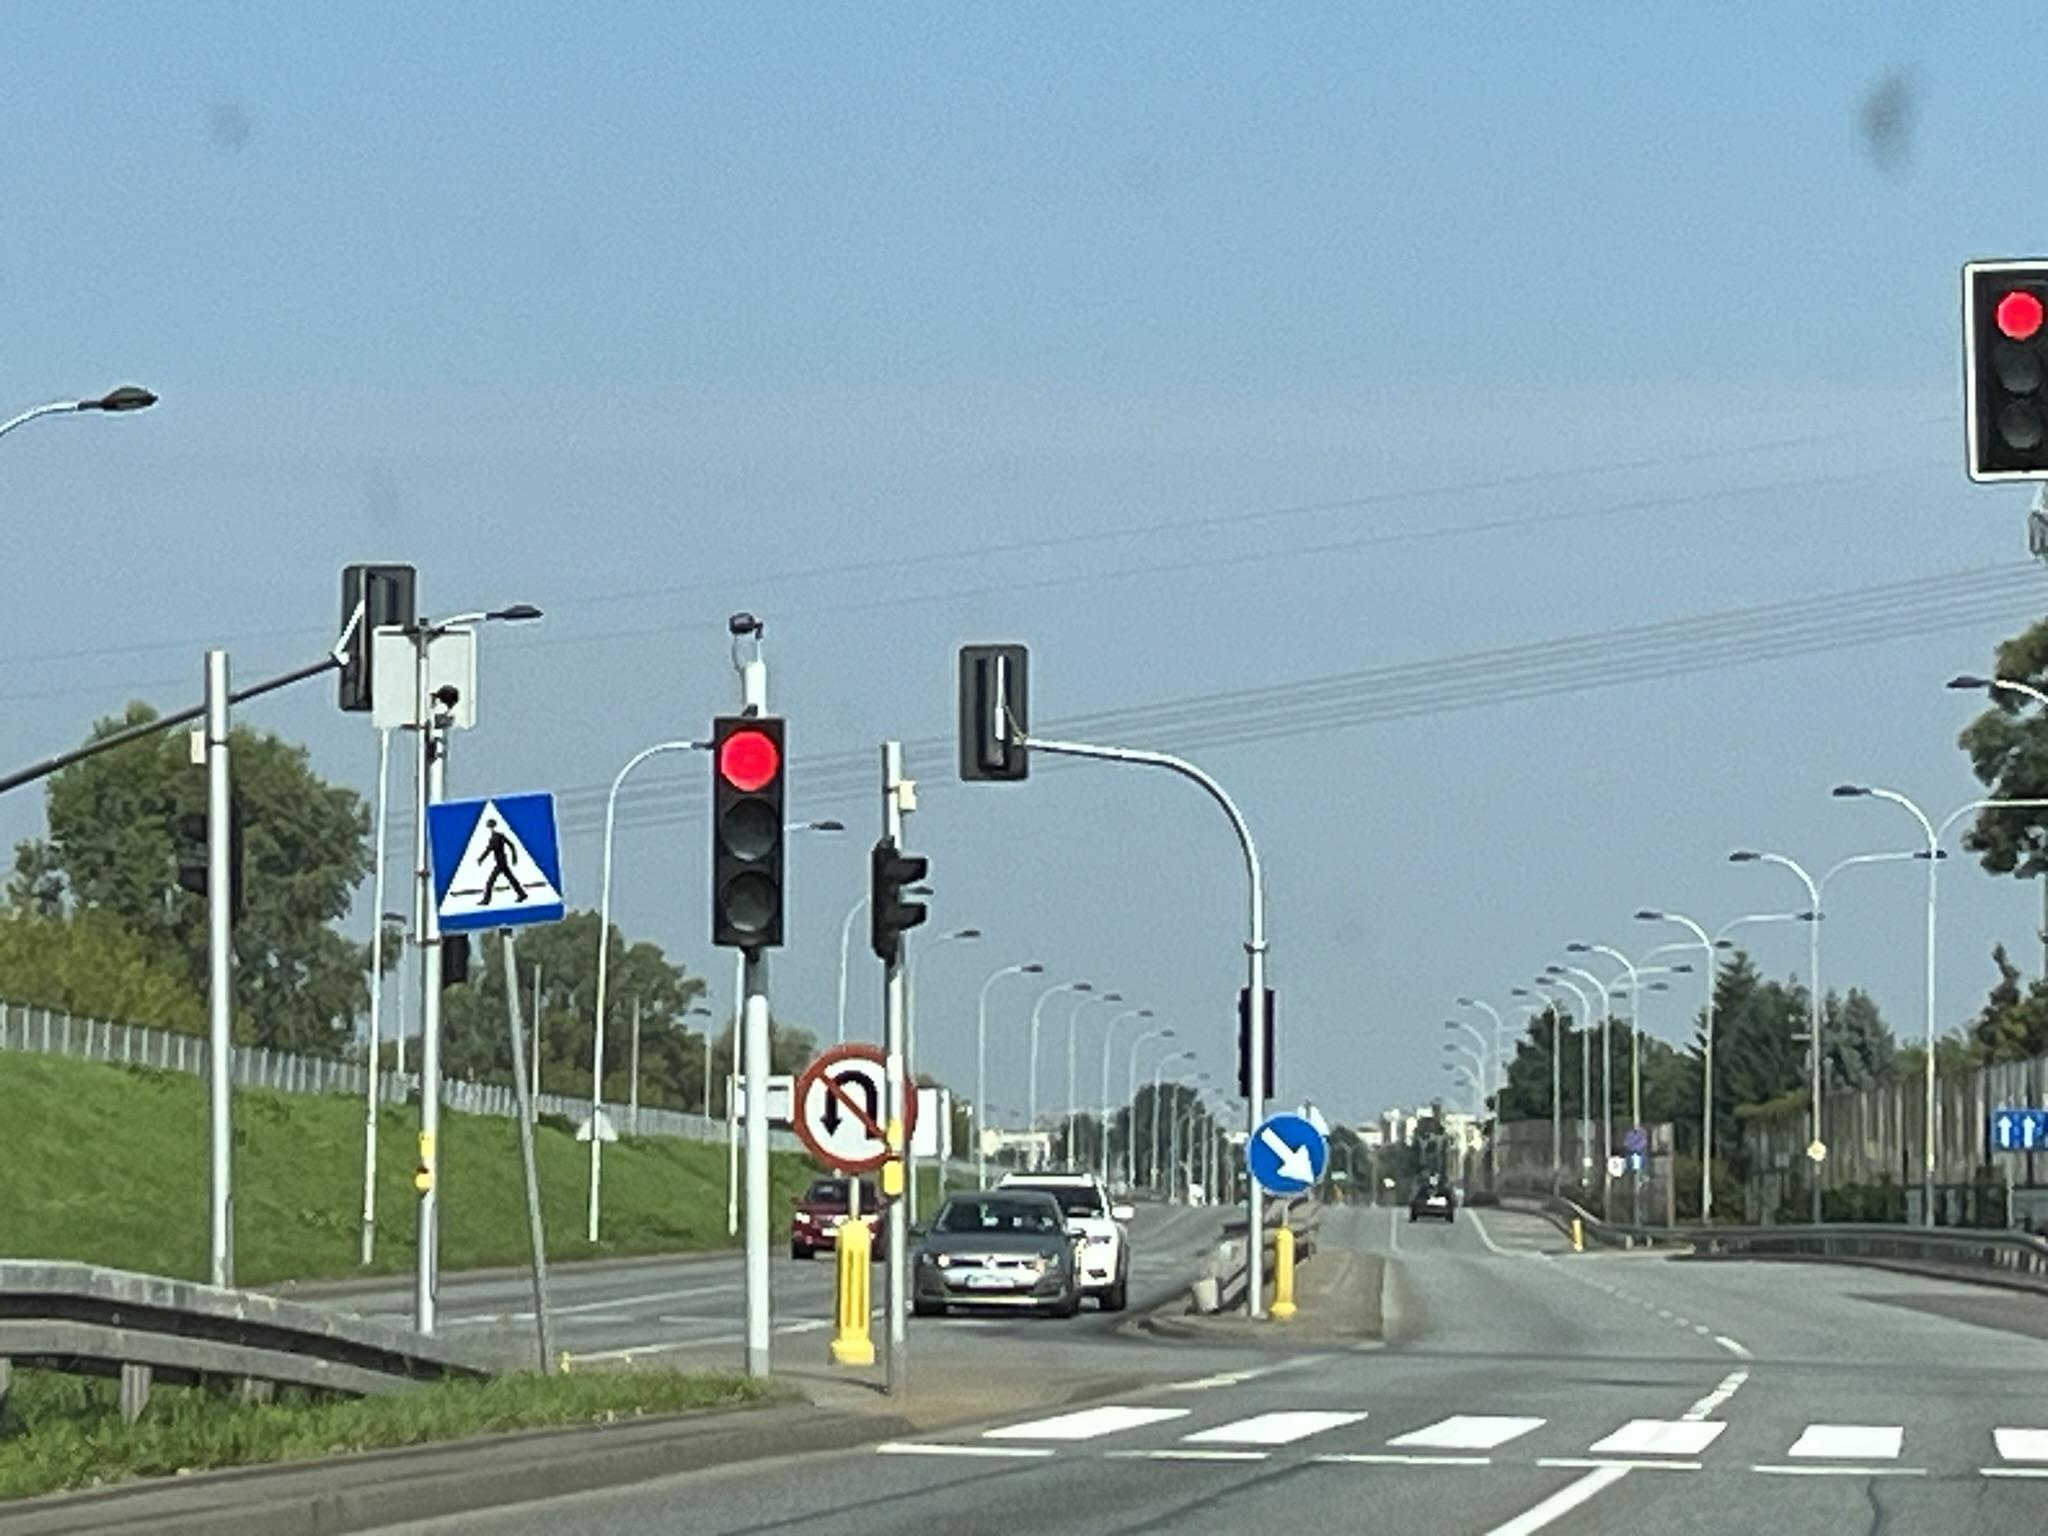information: (427, 792, 566, 933)
mandatory: (1248, 1113, 1329, 1197)
other: (1993, 1108, 2048, 1150)
prohibitory: (792, 1044, 884, 1173)
